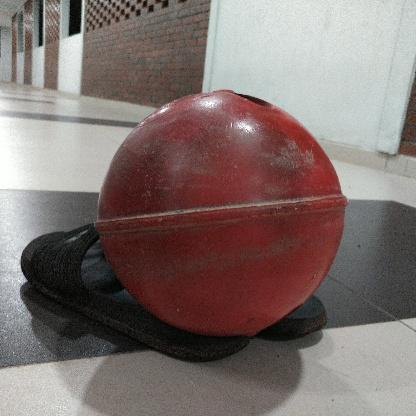red_buoy: (95, 89, 348, 339)
